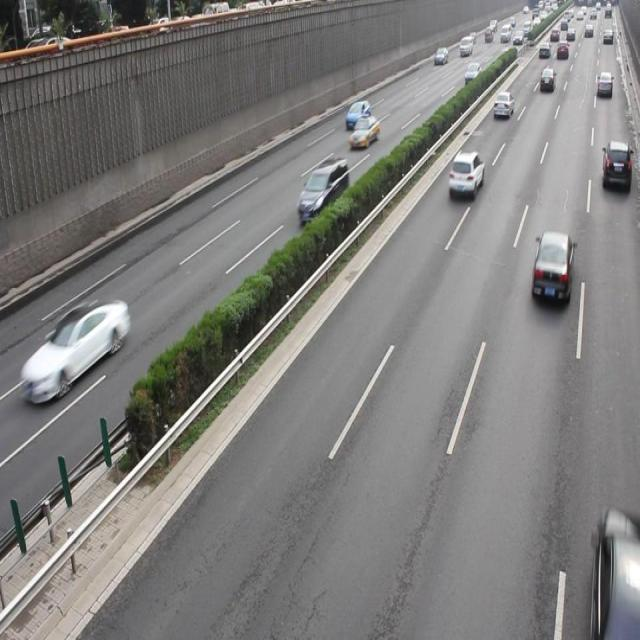car: (28, 296, 130, 402), (588, 506, 640, 640), (530, 230, 573, 306), (446, 149, 483, 199), (601, 140, 630, 193), (348, 114, 378, 149), (344, 98, 369, 130)
truck: (296, 155, 348, 225)
